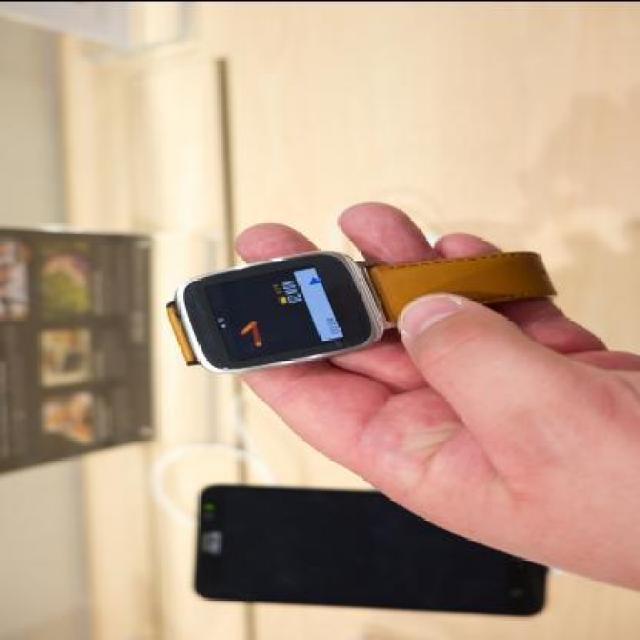phone: (173, 474, 551, 612)
